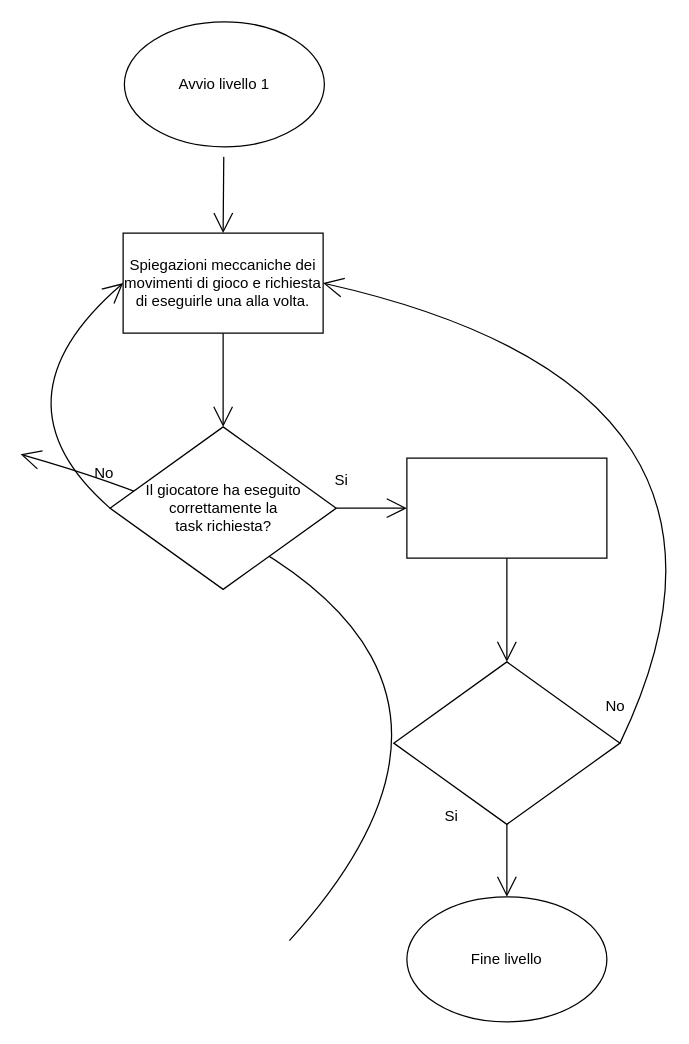
The diagram is 689 pixels wide and 1044 high, and some of its shapes have lost their labels. Each missing label, with the box of its shape:
Il giocatore ha terminato tutte le task?: (392, 661, 620, 824)
Task successiva: (406, 457, 607, 558)
